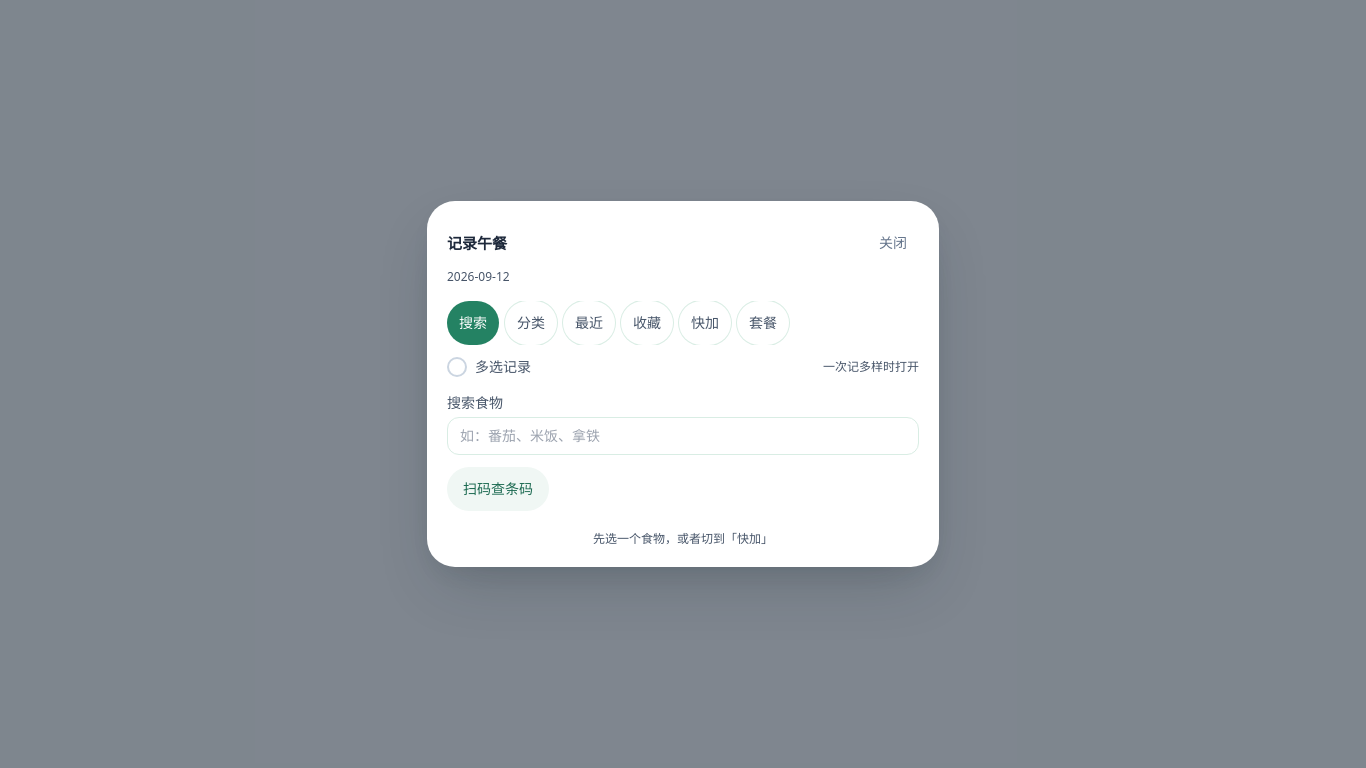
D-2 重复记录温和提示 › 不同餐次（早餐已记、午餐再记同一食物）→ 不提示（那是正常的）
This screenshot has width=1366, height=768.
Click the tab "最近" at (589, 323), box top-left (563, 301), bottom-right (615, 345)
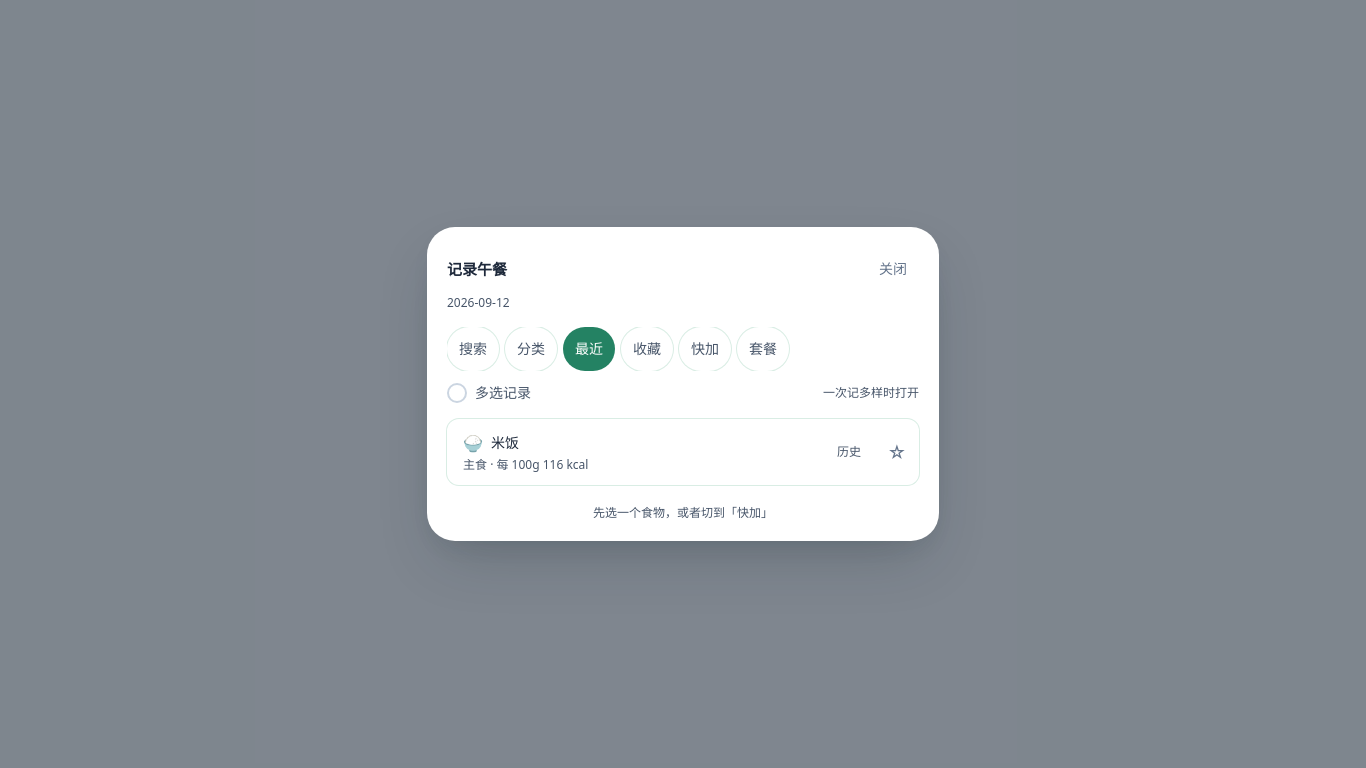
Click the button "🍚 米饭 主食 · 每 100g 116 kcal" at (515, 464), box top-left (447, 419), bottom-right (823, 485)
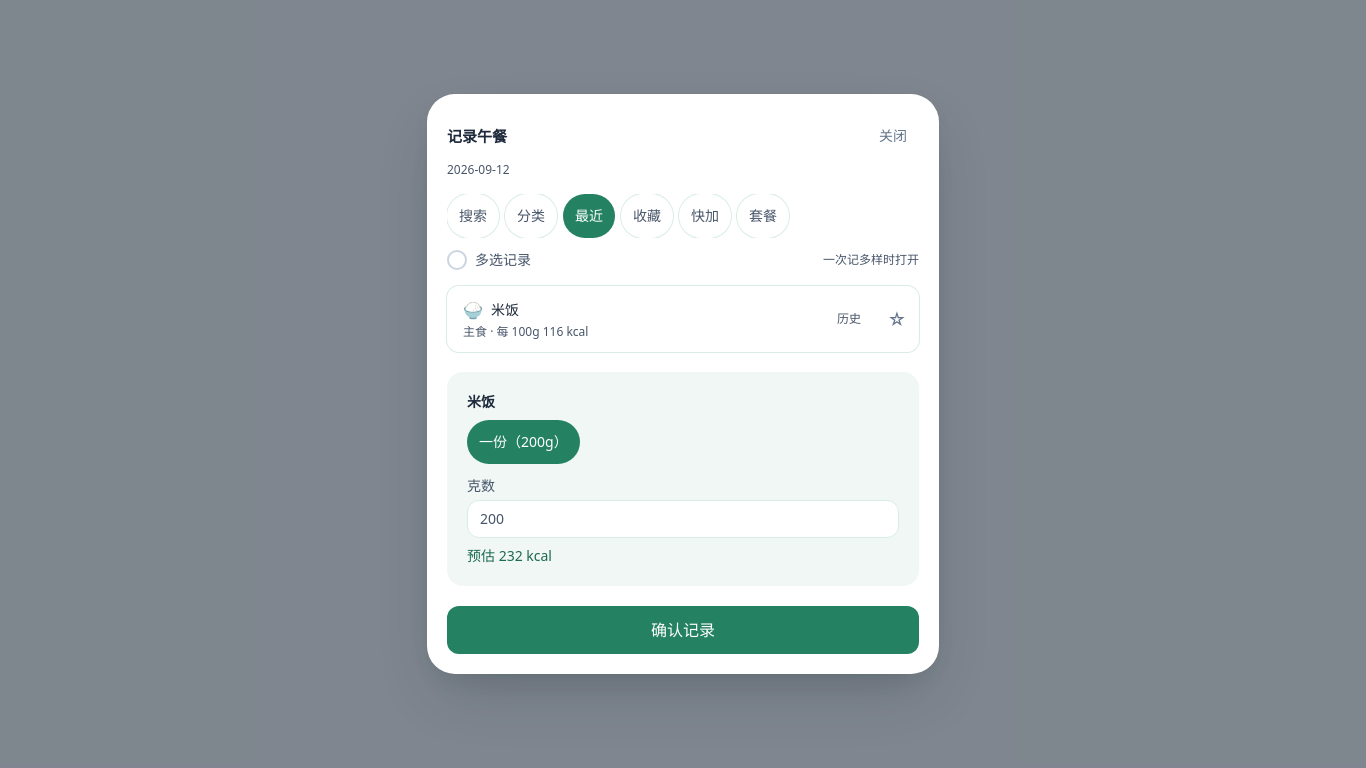
Result: the field labelled "克数" is not empty at top-left (467, 500), bottom-right (899, 538)
